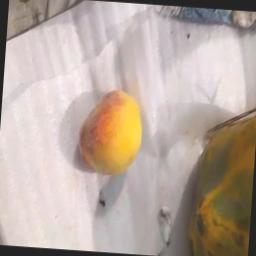Peach Ripe: (64, 78, 162, 186)
